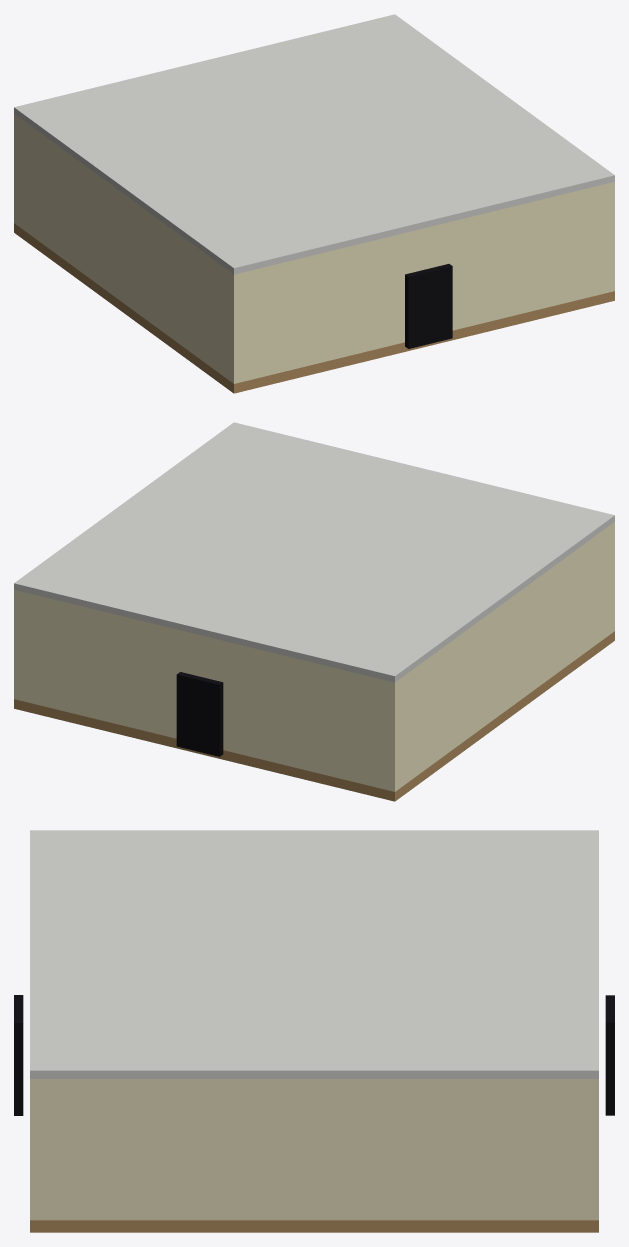
Rendered from rdwe_map_room.glb.
3 views of the same model, one above another, from view 1: azimuth 30°, elevation 25°; view 2: azimuth 150°, elevation 25°; view 3: azimuth 270°, elevation 25° (orthographic). The views are drawn at different scales.
Visible parts, largest first — view 1: Room_Ceiling, Room_Wall_W_1, Room_Wall_S_1, Room_Wall_S_3, Room_Floor, Beyond_lift, Room_Wall_S_2; view 2: Room_Ceiling, Room_Wall_W_1, Room_Wall_N_1, Room_Wall_N_3, Room_Floor, Beyond_door, Room_Wall_N_2; view 3: Room_Ceiling, Room_Wall_E_1, Room_Floor, Room_Wall_N_3, Room_Wall_S_3, Beyond_door, Beyond_lift.
Part boxes in pixels (box(x1,y1,x2,y2)): Room_Ceiling: box(14, 14, 614, 274); Room_Wall_W_1: box(17, 117, 230, 380); Room_Wall_S_1: box(230, 232, 409, 383); Room_Wall_S_3: box(439, 182, 614, 330); Room_Floor: box(14, 223, 614, 393); Beyond_lift: box(405, 264, 452, 348); Room_Wall_S_2: box(409, 224, 439, 273); Room_Ceiling: box(14, 422, 614, 682); Room_Wall_W_1: box(398, 525, 611, 788); Room_Wall_N_1: box(219, 640, 398, 791); Room_Wall_N_3: box(14, 590, 189, 738); Room_Floor: box(14, 631, 614, 801); Beyond_door: box(176, 672, 223, 756); Room_Wall_N_2: box(190, 632, 218, 680); Room_Ceiling: box(30, 830, 598, 1078); Room_Wall_E_1: box(39, 1079, 589, 1220); Room_Floor: box(30, 1220, 598, 1232); Room_Wall_N_3: box(589, 1079, 598, 1220); Room_Wall_S_3: box(30, 1079, 39, 1220); Beyond_door: box(605, 995, 614, 1115); Beyond_lift: box(14, 995, 23, 1115).
Size of the model in its own units: 12.4 by 3.9 by 13.1.
